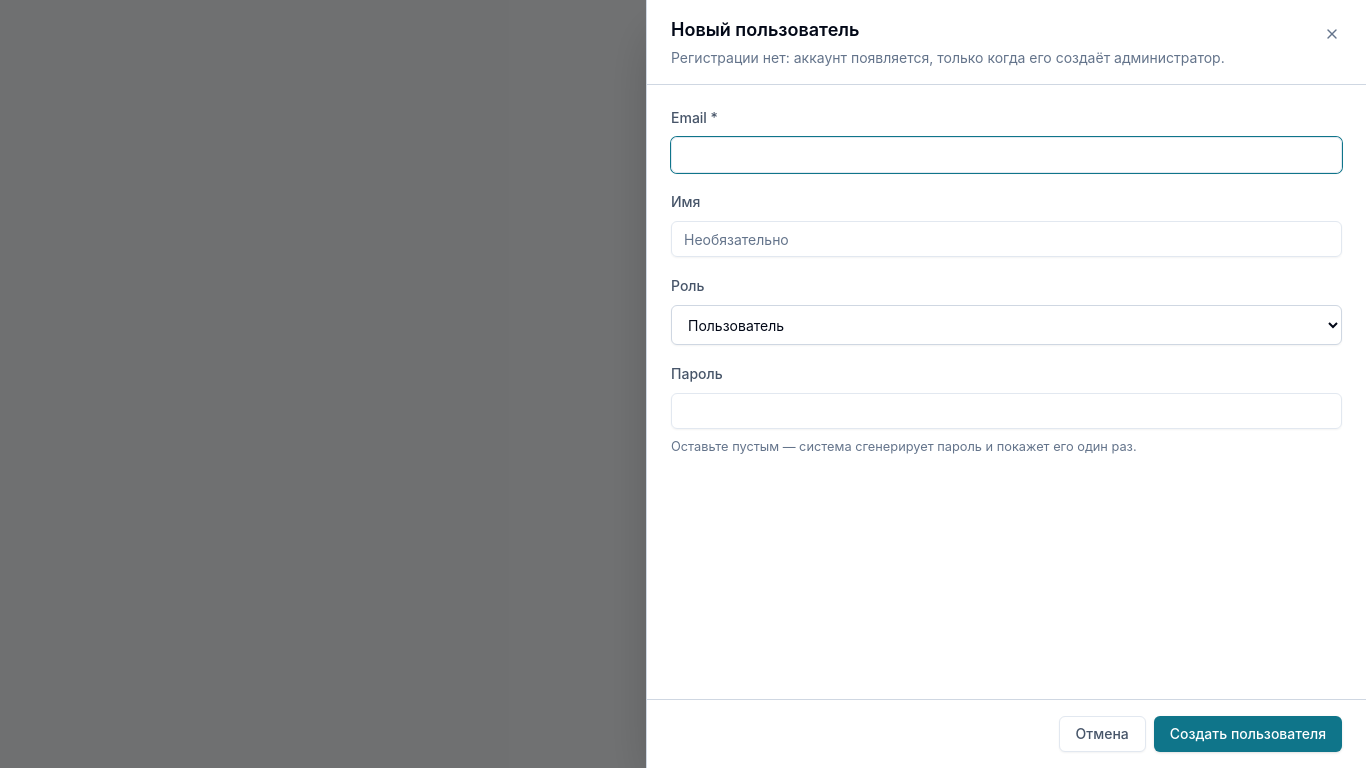
Test: AdminUserEditorSheet › shows a server validation error under its field and keeps the sheet open
This screenshot has width=1366, height=768.
Type "new@example.com" into the field labelled "Email *".
click(1006, 155); type("new@example.com")  # box [671,137,1342,173]
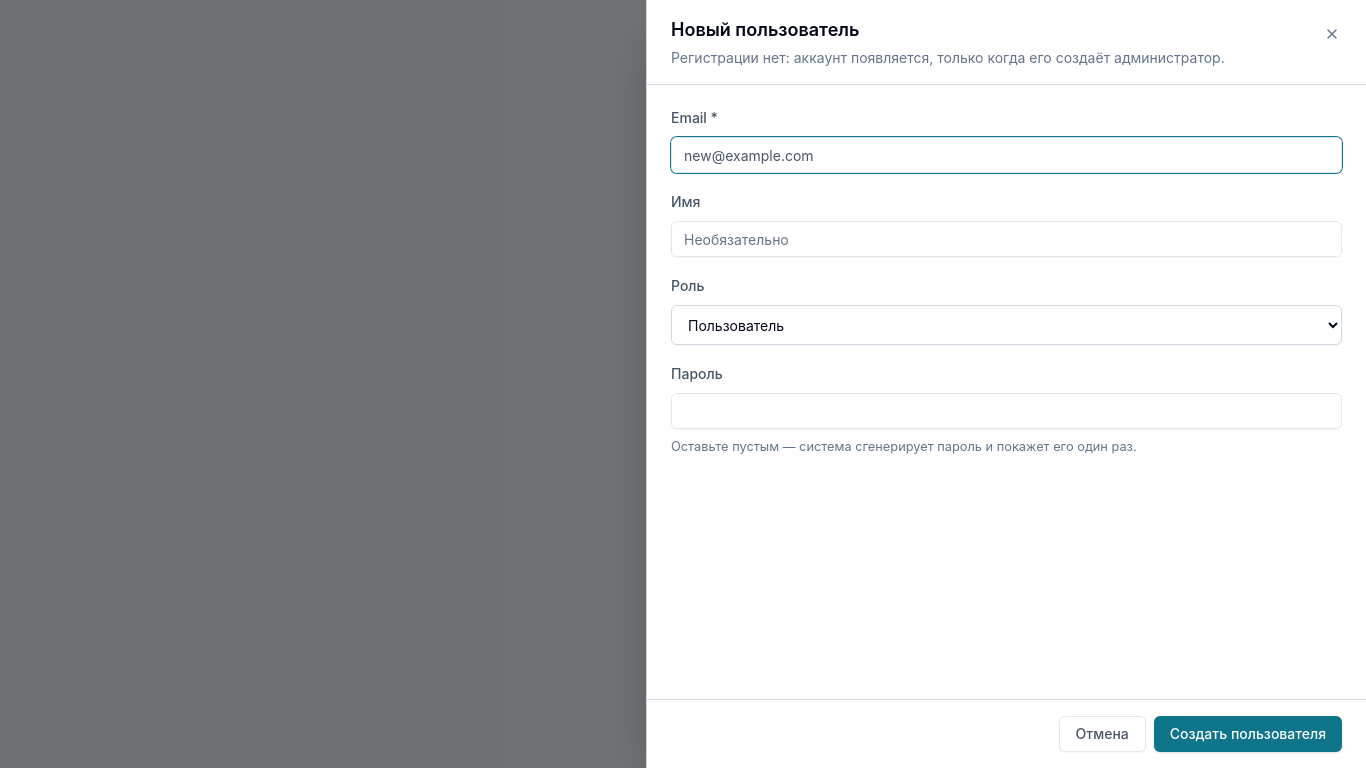
Type "short" into the field labelled "Пароль".
click(1006, 411); type("short")  # box [671,393,1342,429]
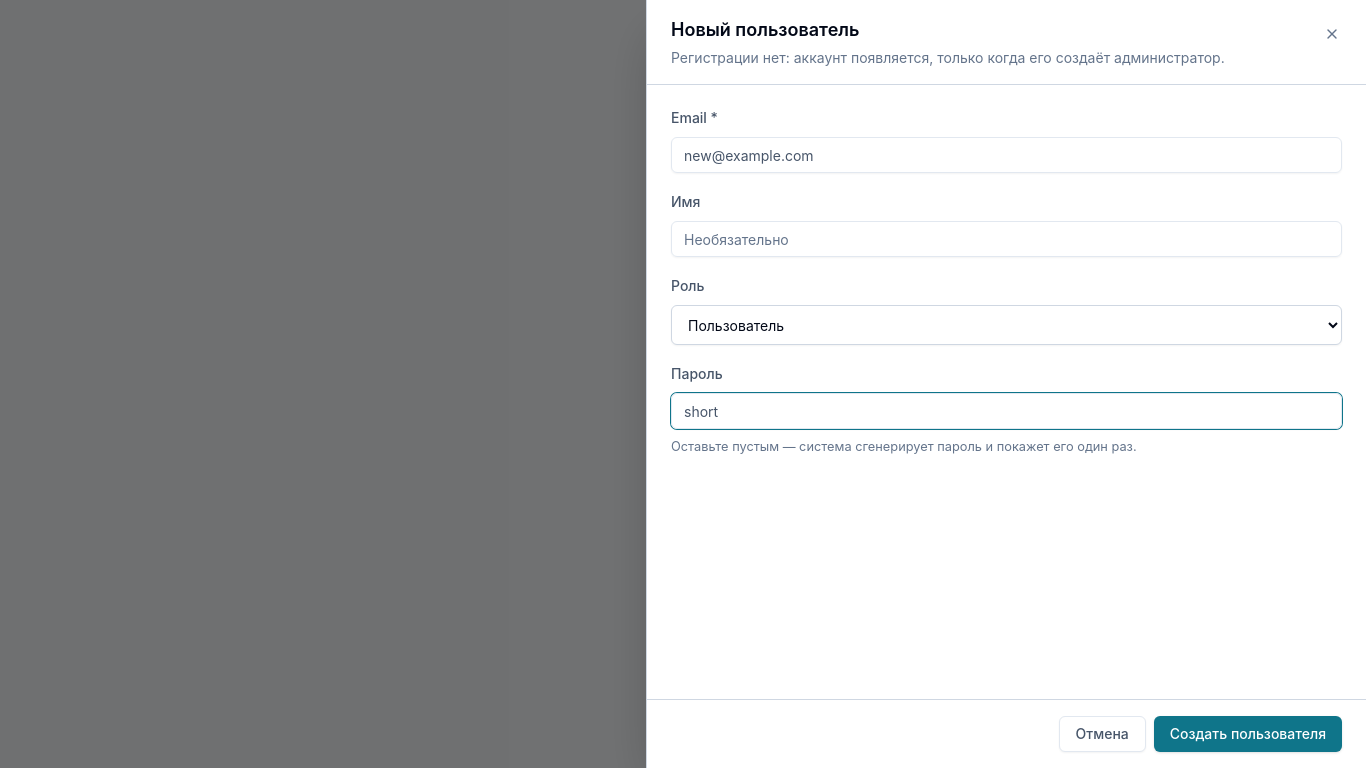
Click the button "Создать пользователя".
click(1248, 734)  # box [1154,716,1342,752]
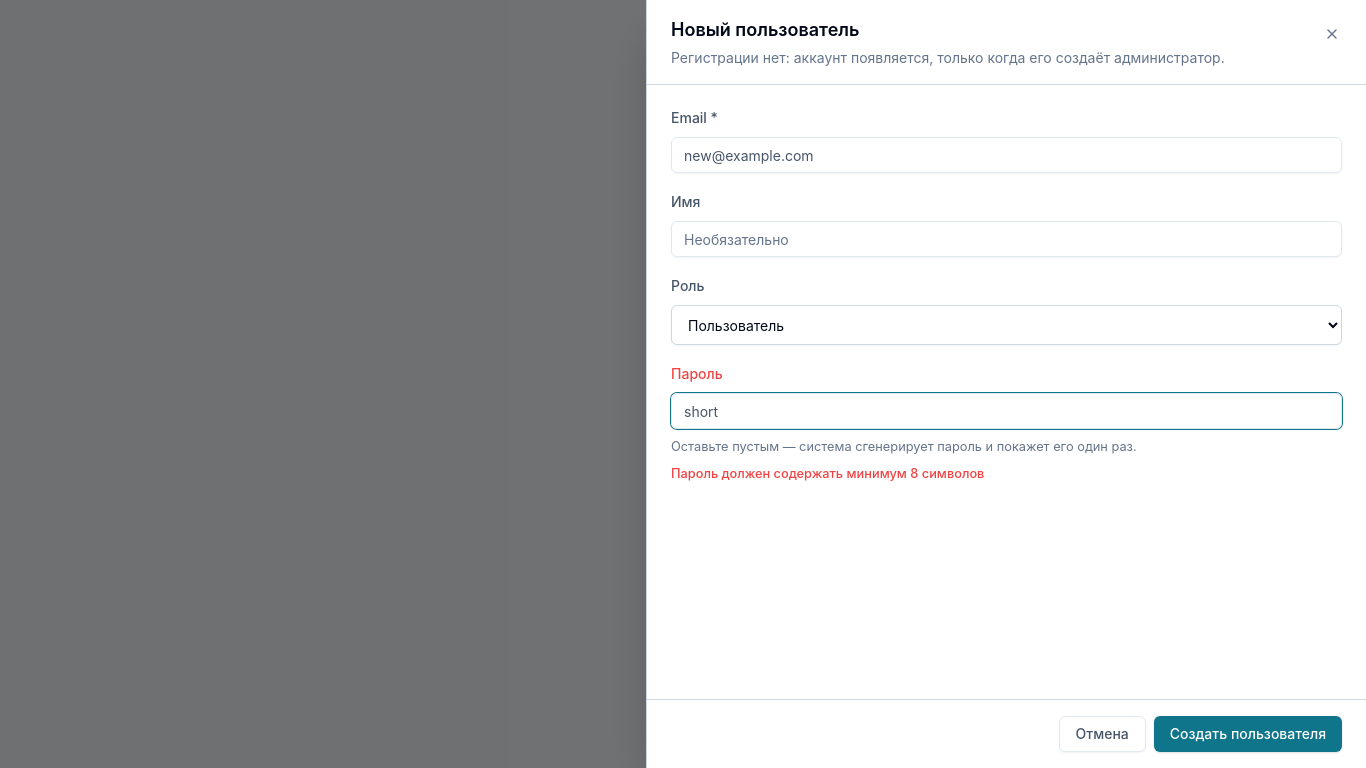
Check: the text "Пароль должен содержать минимум 8 символов" is shown, box [671,466,984,481]
